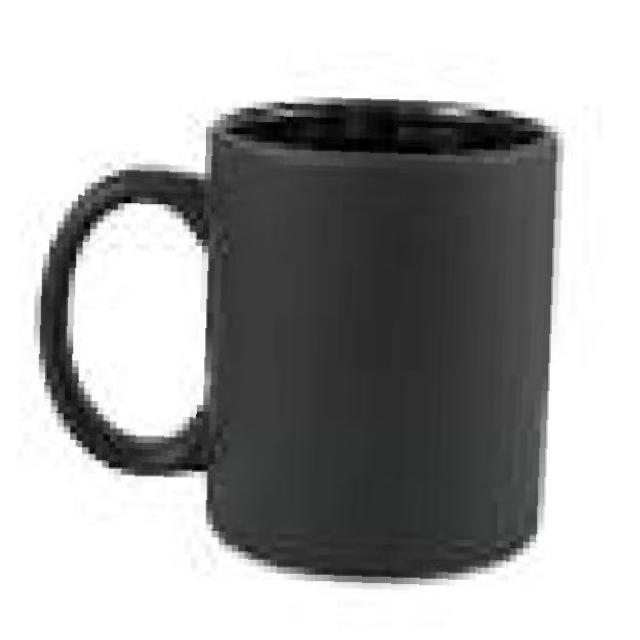cup: (11, 62, 579, 598)
